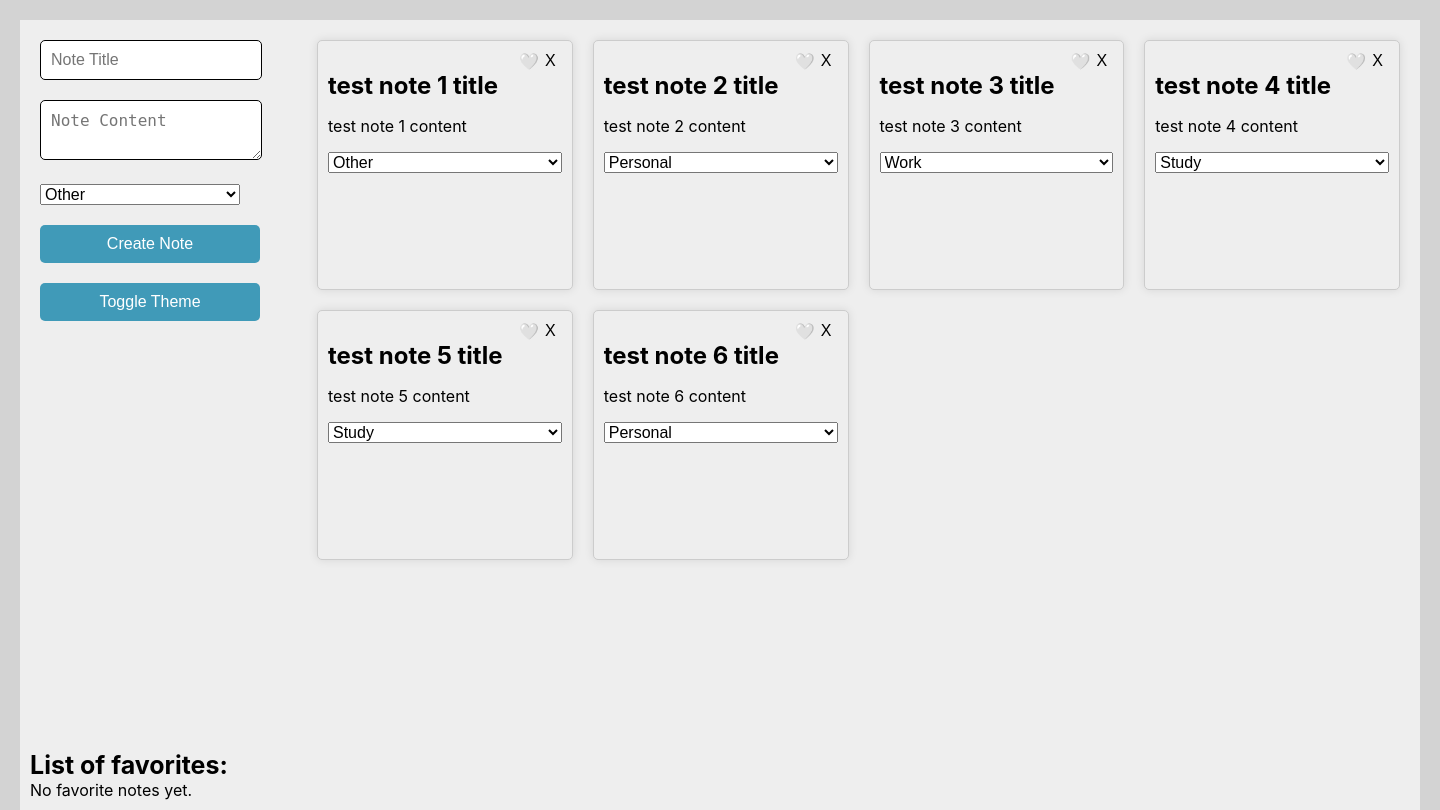
Test case: Create StickyNote › deletes a note
The image size is (1440, 810).
Type "Note to Delete" into the field with placeholder "Note Title" at {"x": 151, "y": 60}, box [40, 40, 262, 80]
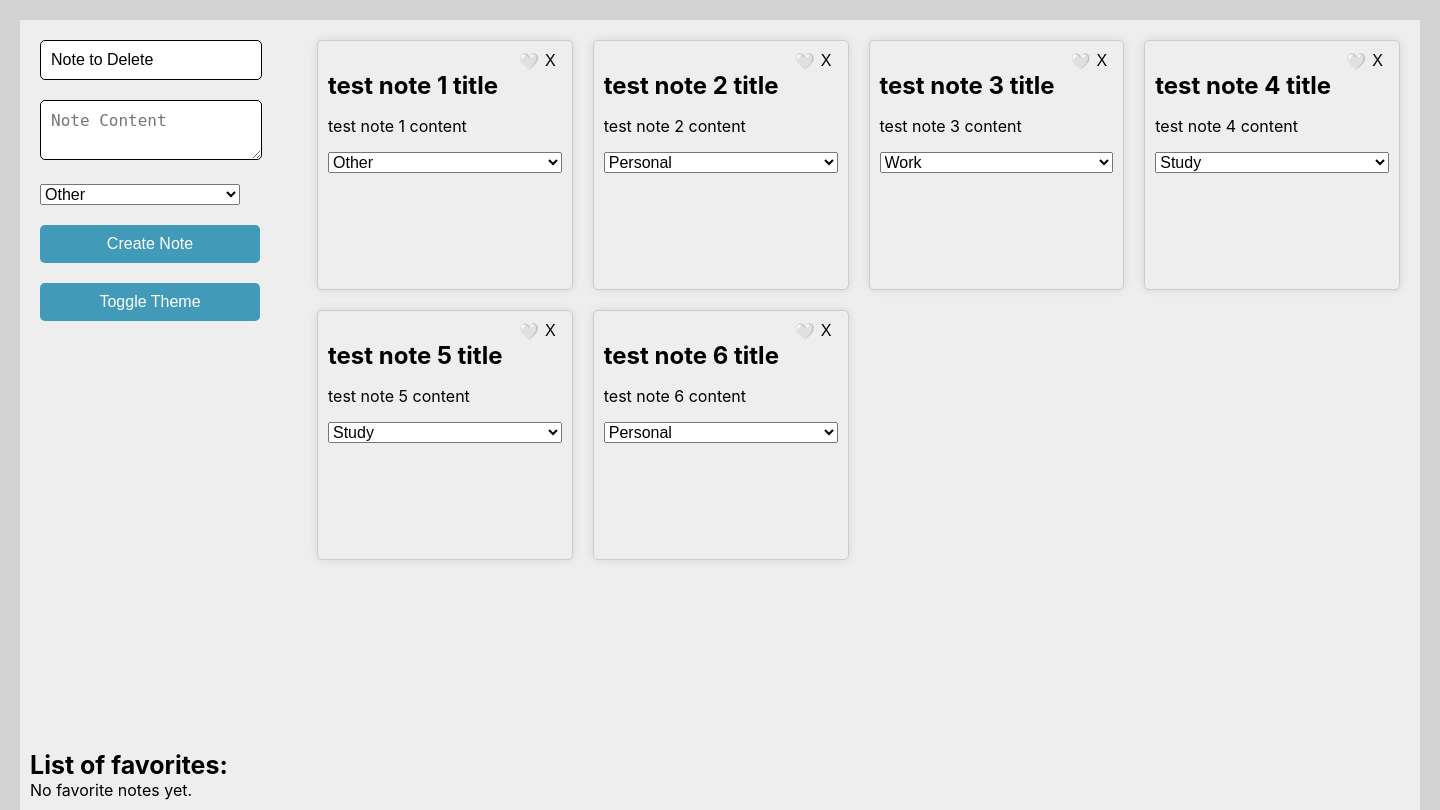
Type "Content to Delete" into the text box with placeholder "Note Content" at {"x": 151, "y": 130}, box [40, 100, 262, 160]
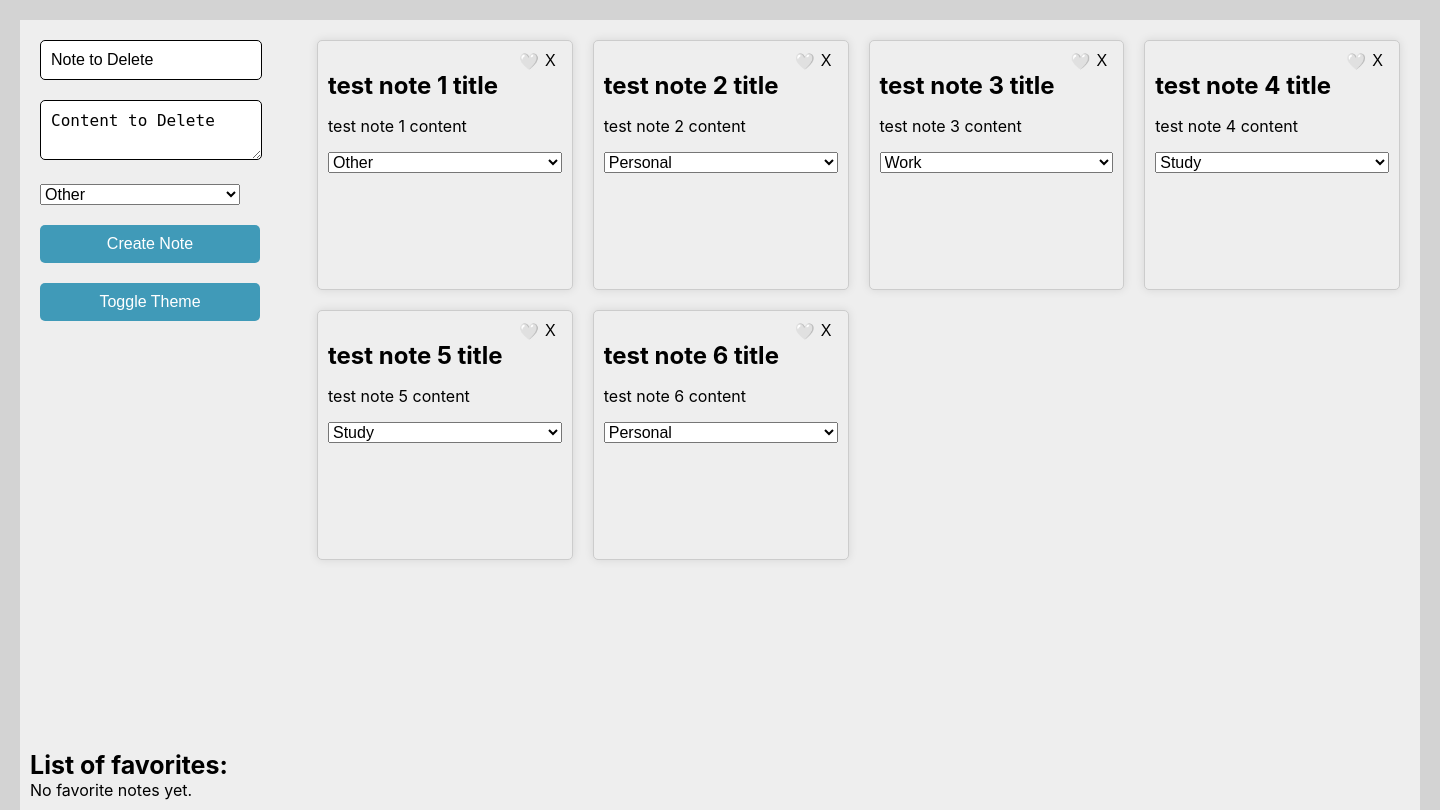
Click the button "Create Note" at {"x": 150, "y": 244}, box [40, 225, 260, 263]
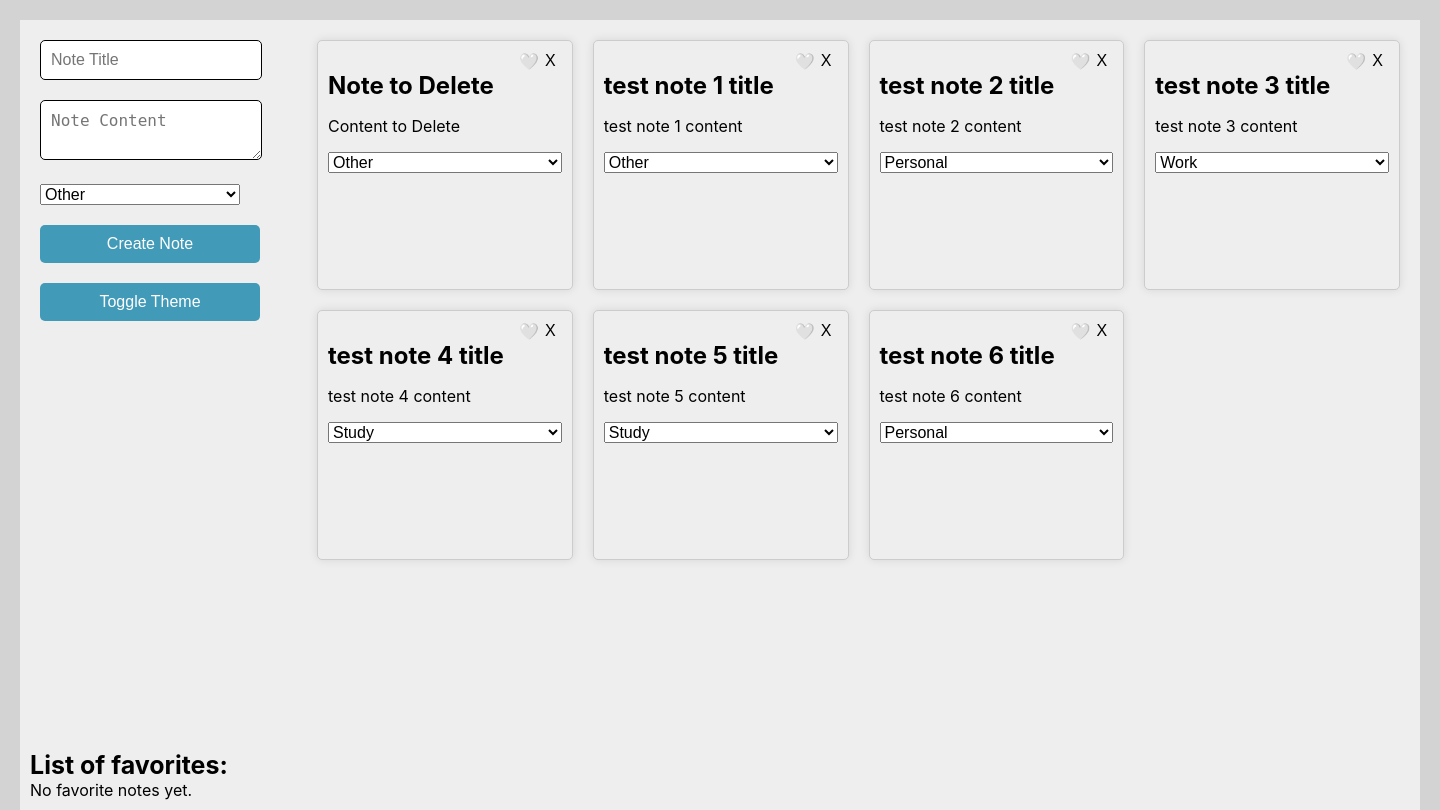
Click the button with test id "delete-button-7" at {"x": 550, "y": 61}, box [539, 51, 562, 71]
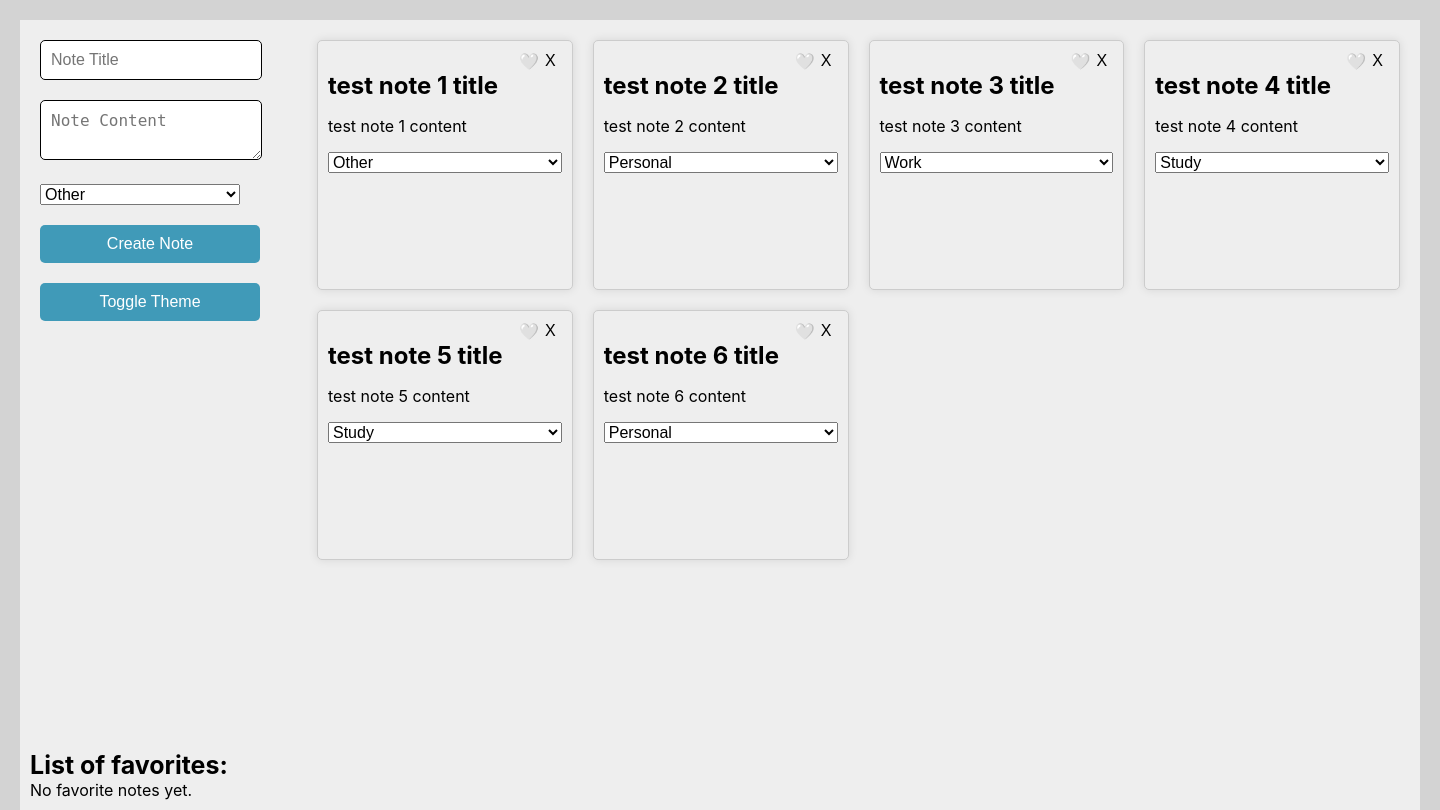
Now the heading "Note to Delete" is gone
Now the text box "Content to Delete" is gone
